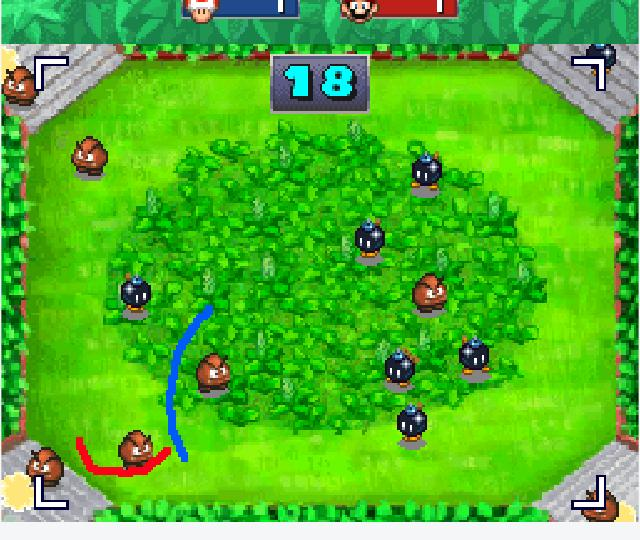bomb: (455, 330, 494, 376), (382, 345, 420, 392), (118, 269, 153, 318), (394, 401, 430, 446), (407, 150, 445, 192), (353, 215, 385, 262), (586, 41, 621, 75)
goomba: (68, 135, 111, 179), (408, 272, 450, 314), (25, 446, 65, 489), (1, 64, 40, 108), (115, 428, 155, 470), (194, 352, 231, 395), (581, 485, 621, 522)
